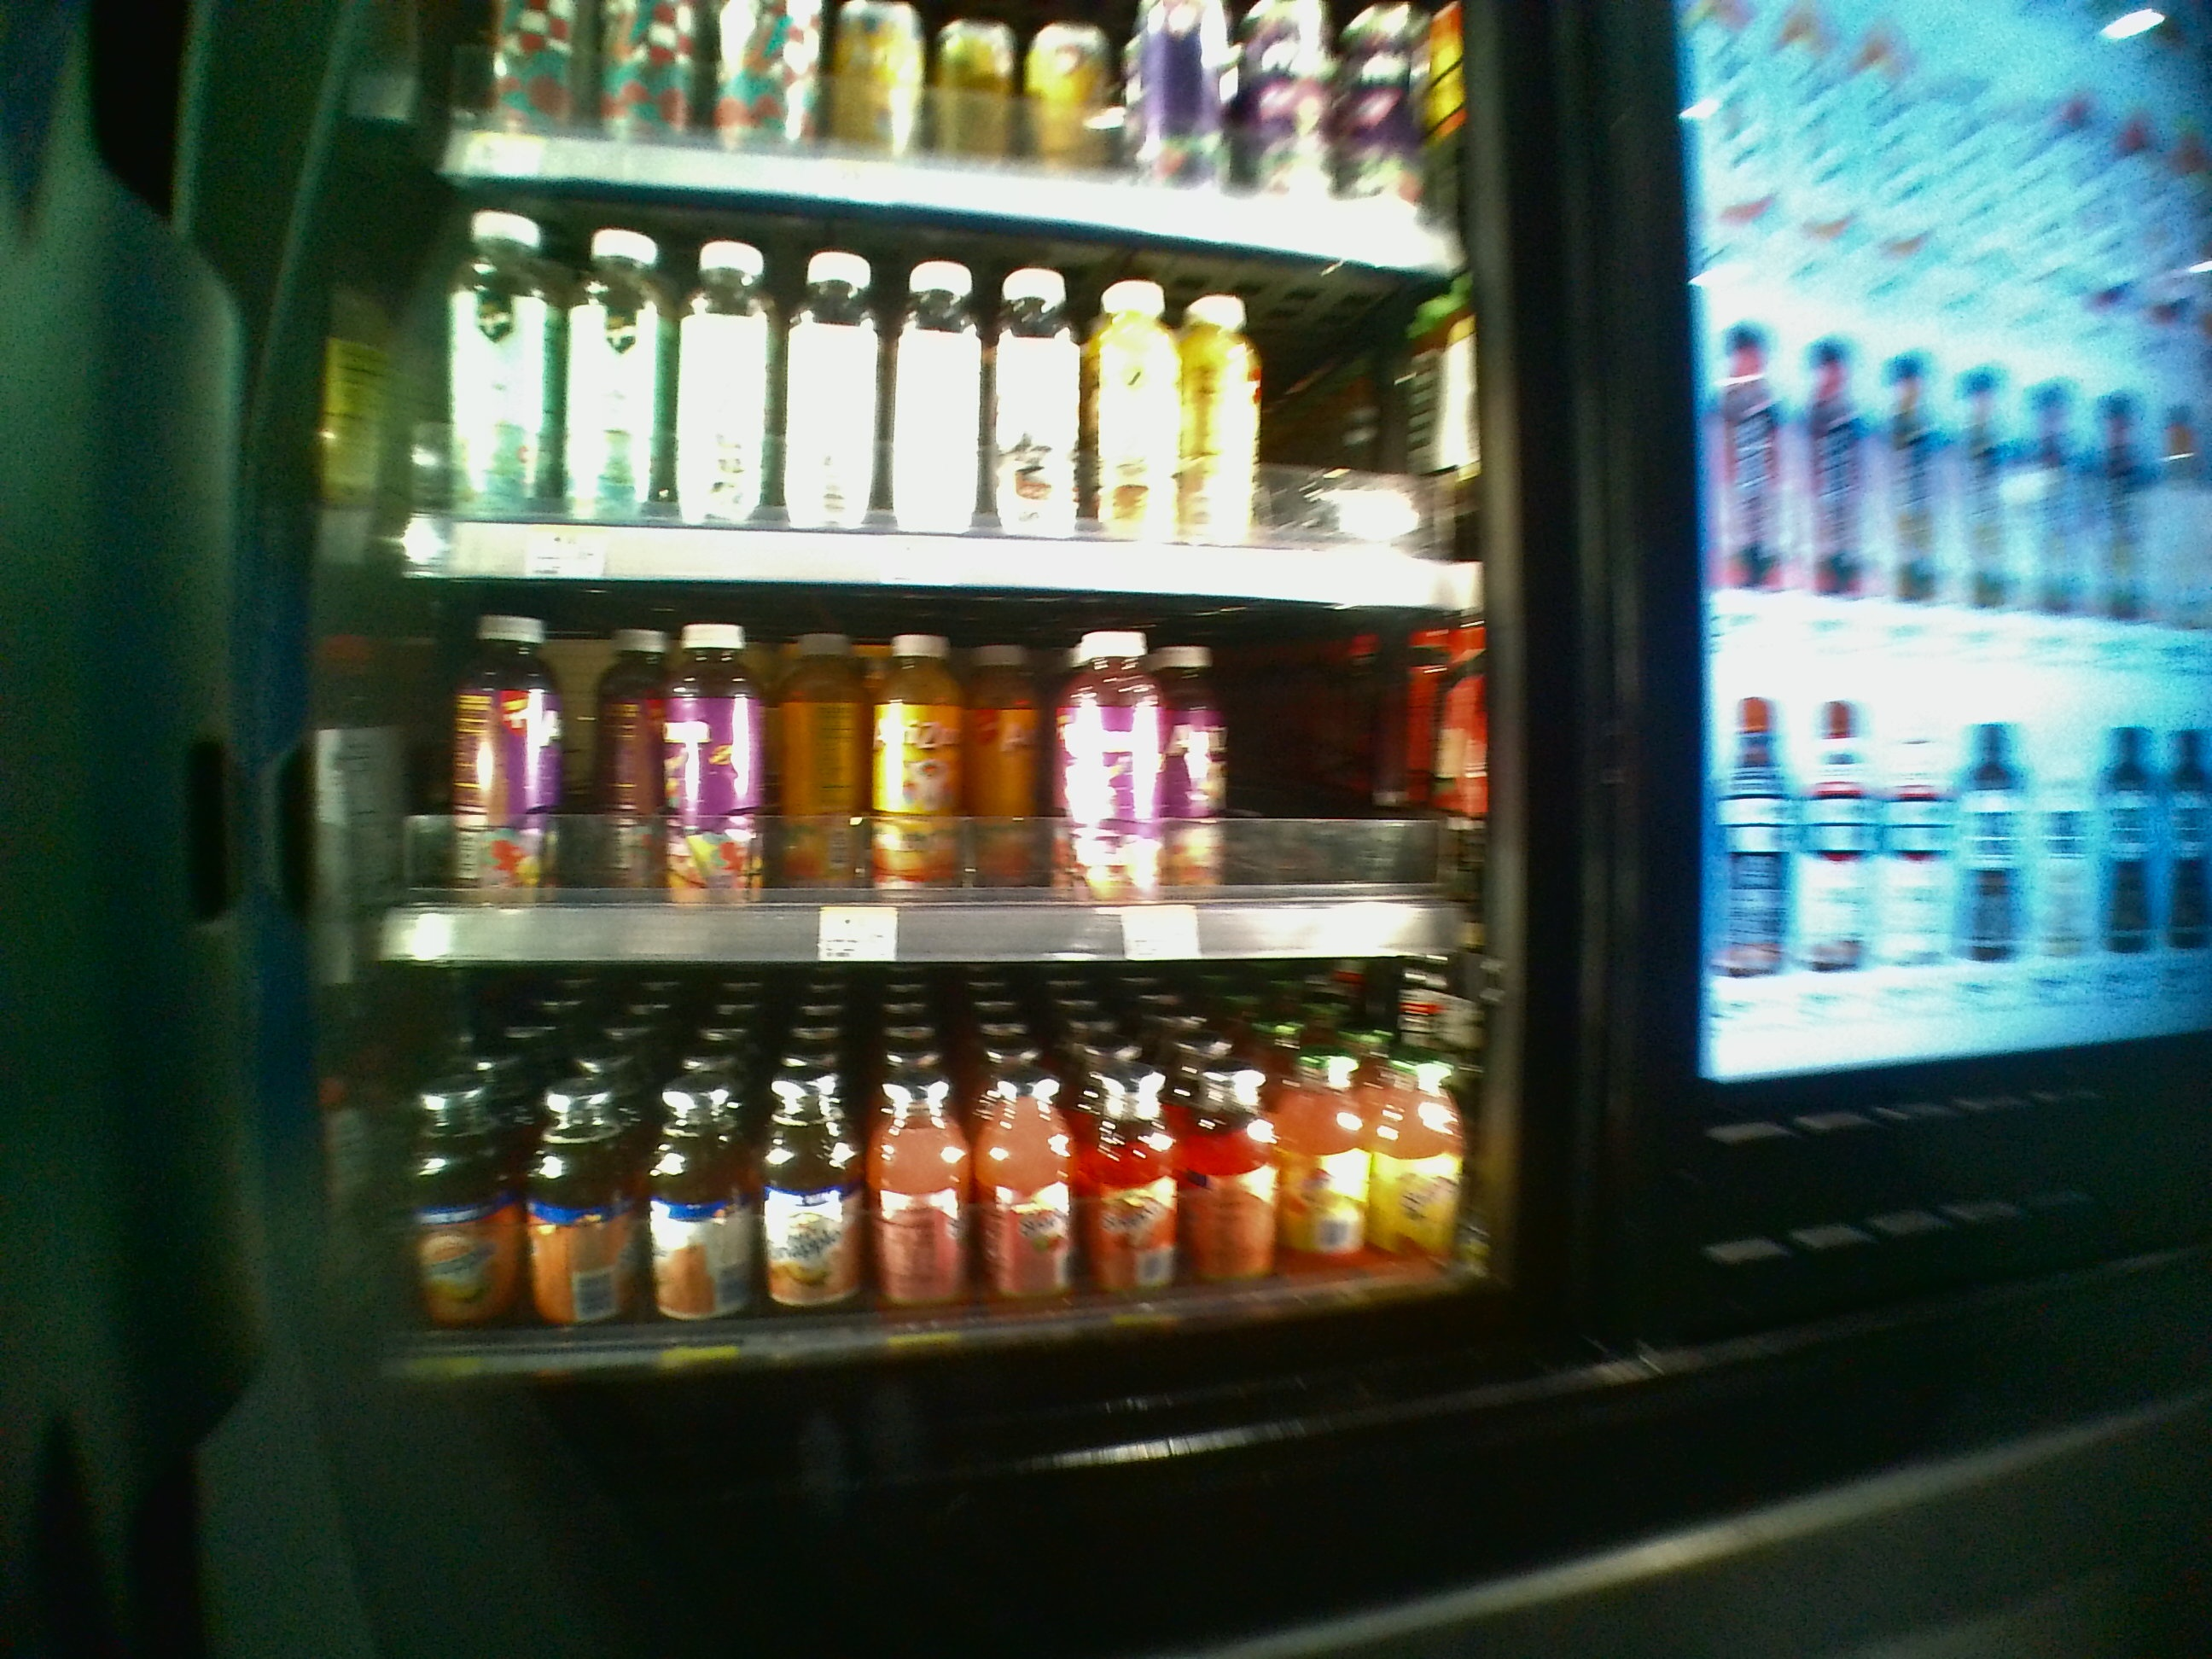shelf: (399, 166, 1479, 591), (380, 969, 1486, 1371), (381, 612, 1491, 958)
